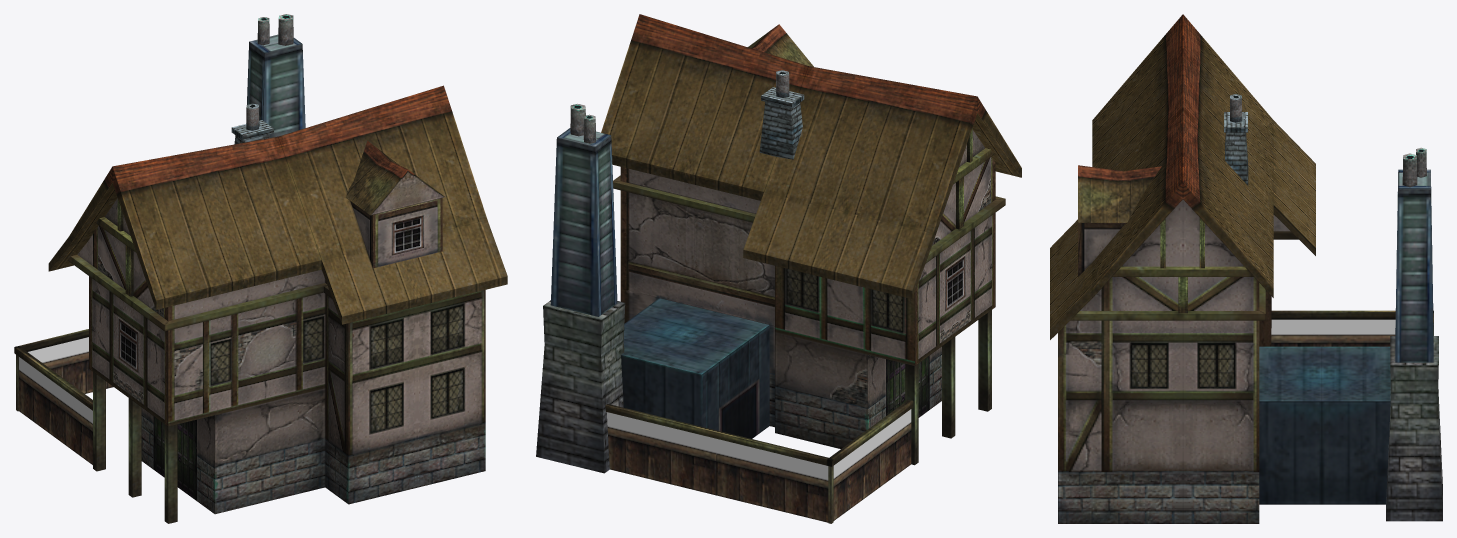
The model's file is MEB_building_08.fbx.
3 views of the same model, side by side, from view 1: azimuth 30°, elevation 25°; view 2: azimuth 150°, elevation 25°; view 3: azimuth 270°, elevation 25° (orthographic). The views are drawn at different scales.
Parts seen in each view (by area): view 1: MEB_building_08; view 2: MEB_building_08; view 3: MEB_building_08.
Part boxes in pixels (left/top/right/bottom): MEB_building_08: left=14, top=14, right=507, bottom=523; MEB_building_08: left=536, top=14, right=1021, bottom=523; MEB_building_08: left=1050, top=14, right=1442, bottom=523.
Bounding box in the file's own units: 1144 × 1115 × 1129.
Materials: 1 (1 with a texture image).
